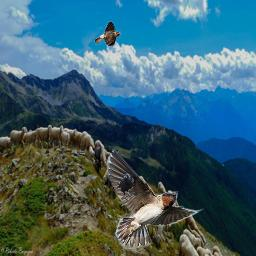Crow: (113, 172, 134, 201)
Swallow: (106, 149, 204, 249), (94, 21, 122, 46)
